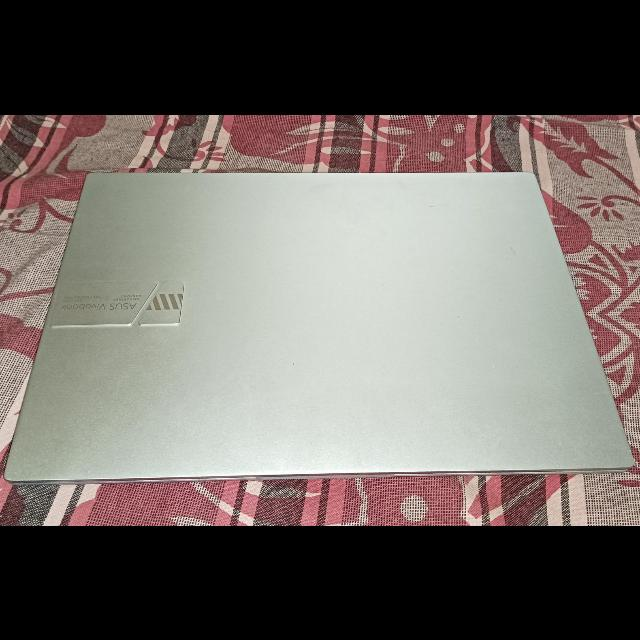laptop: (20, 150, 640, 496)
